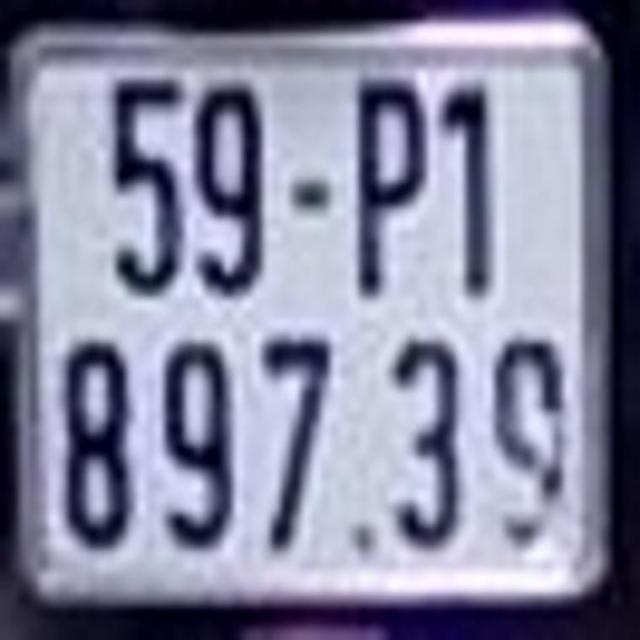1: (444, 84, 504, 308)
3: (394, 341, 468, 548)
5: (114, 77, 182, 282)
7: (261, 337, 323, 545)
8: (61, 342, 143, 550)
9: (497, 343, 567, 552), (192, 82, 263, 288), (164, 339, 230, 543)
P: (357, 81, 428, 296)
